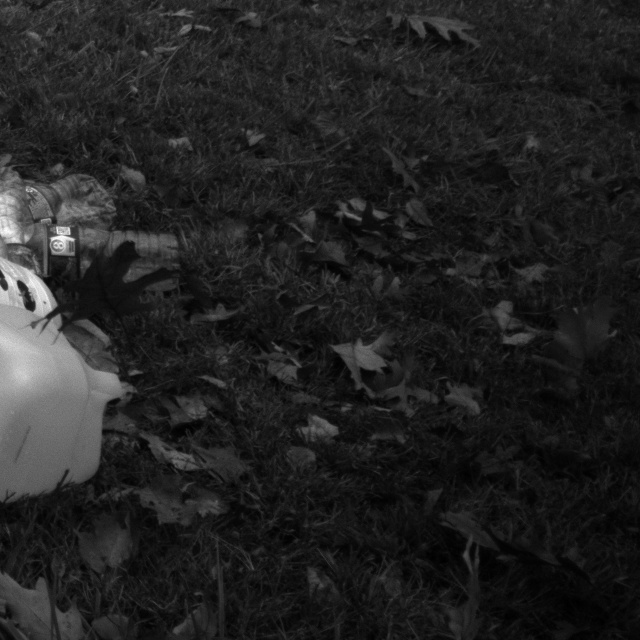bottle: (24, 210, 229, 291), (0, 155, 57, 296)
can: (0, 324, 146, 505)
